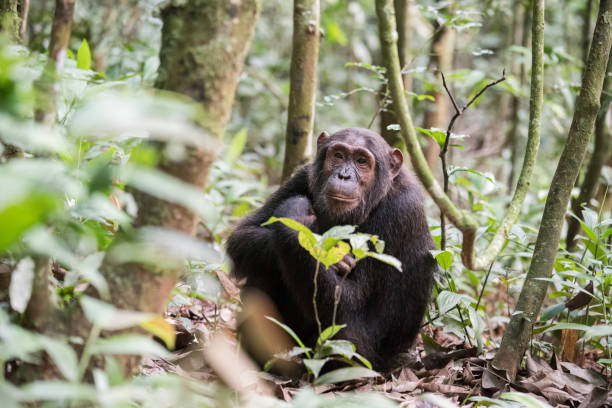chimpanzee: (305, 117, 403, 239)
